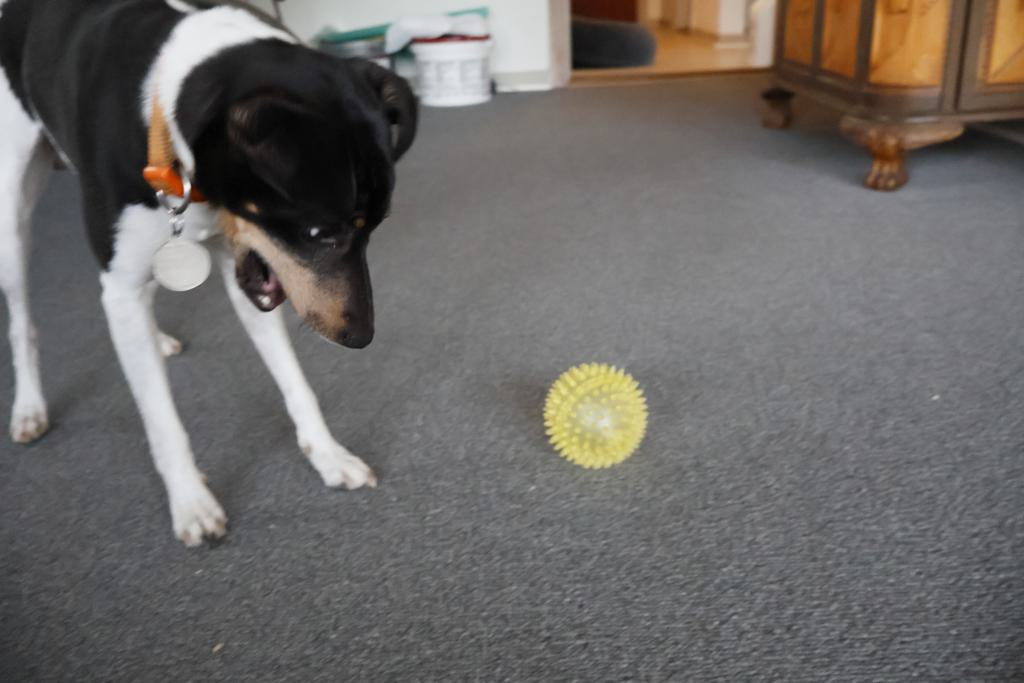Dog: (0, 0, 432, 559)
